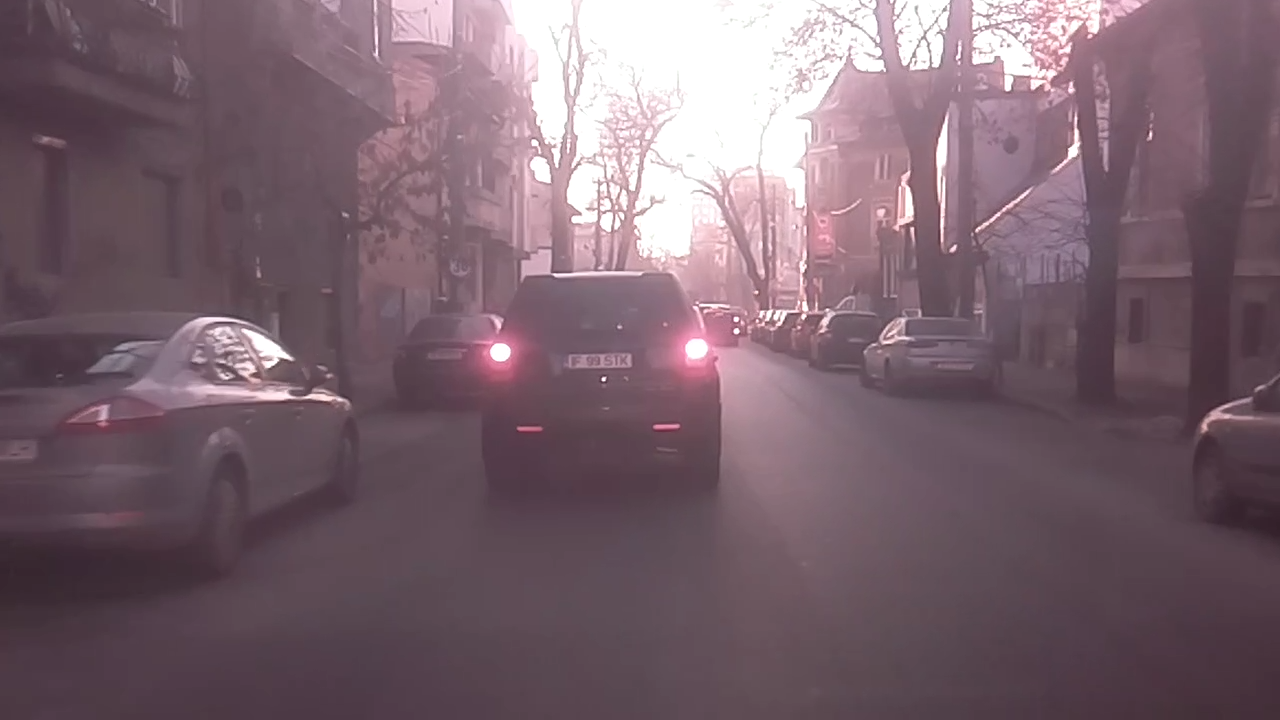license-plate: (561, 348, 634, 372)
